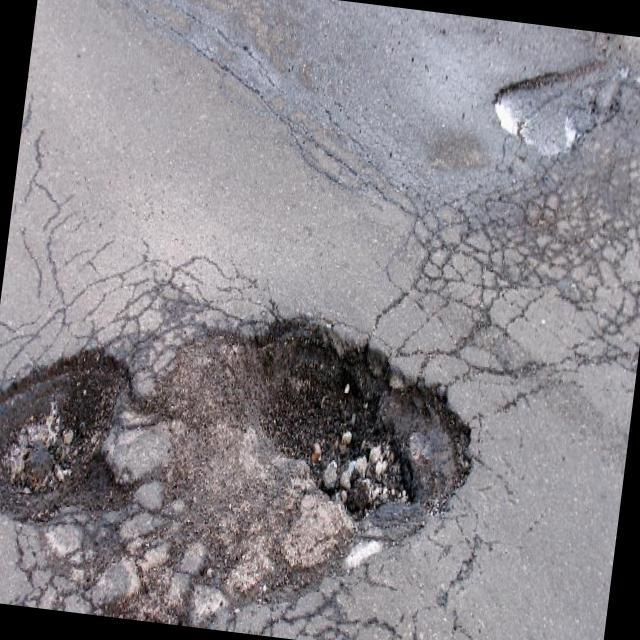Pothole: (0, 320, 468, 621), (167, 320, 471, 595), (496, 80, 603, 158), (502, 81, 581, 157)
